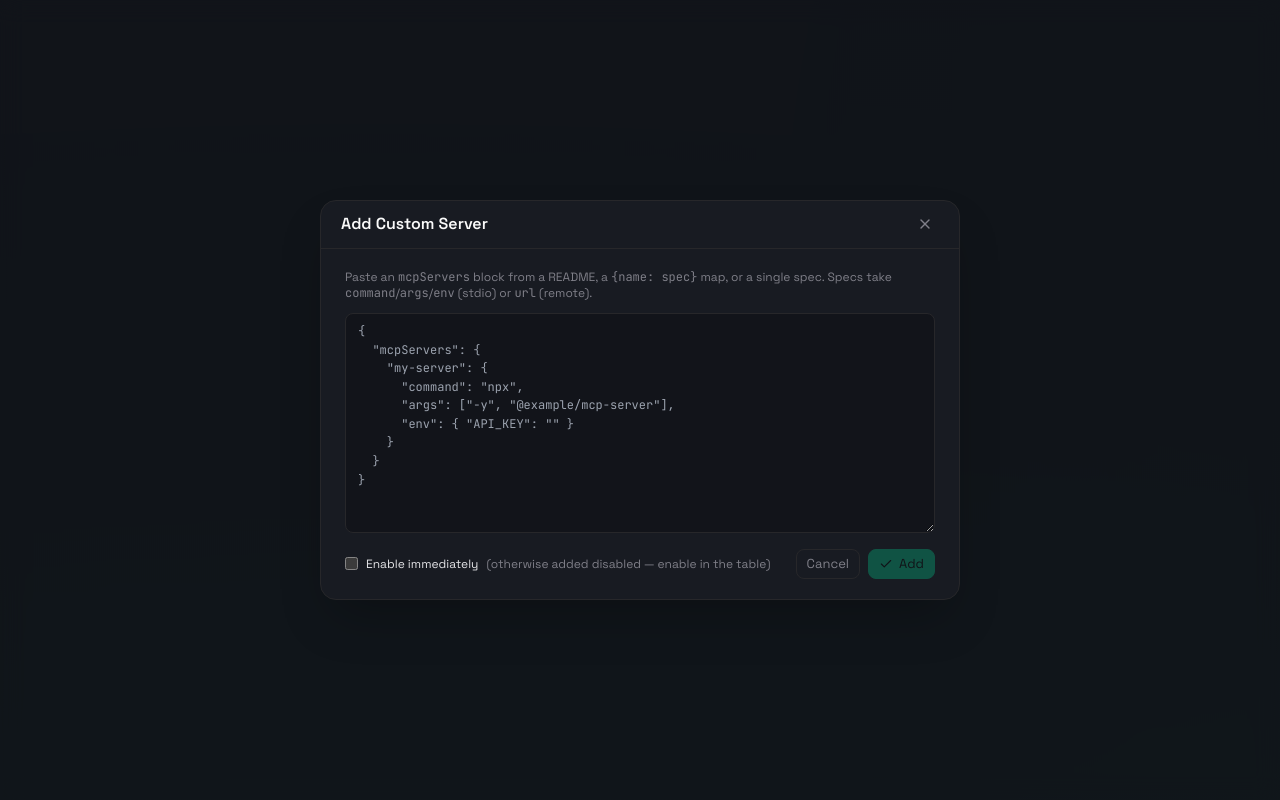
add mode › shows an inline parse error for invalid JSON and disables Add
Step 1. Click the text box named "Servers JSON" → x=640, y=423, box [345, 313, 935, 533]
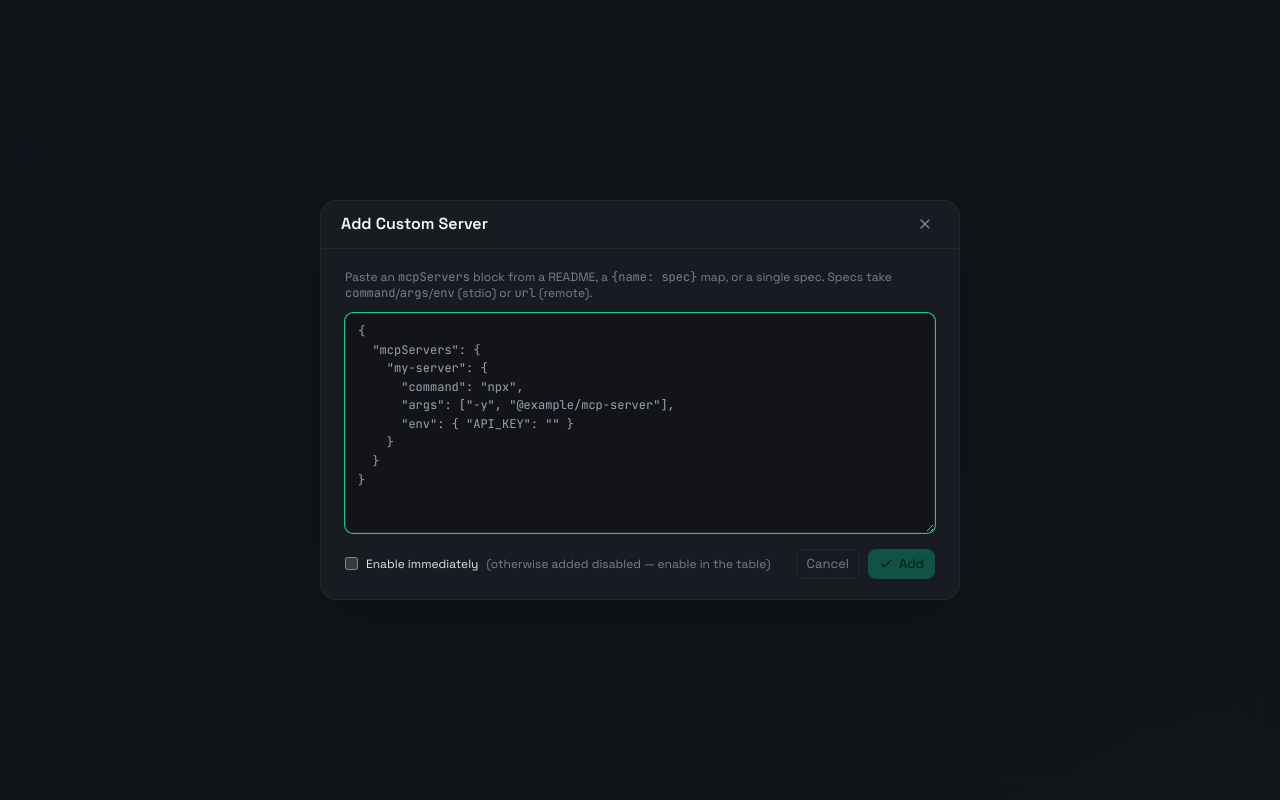
Step 2. Type keys "{\"mcpServers\": nope}"
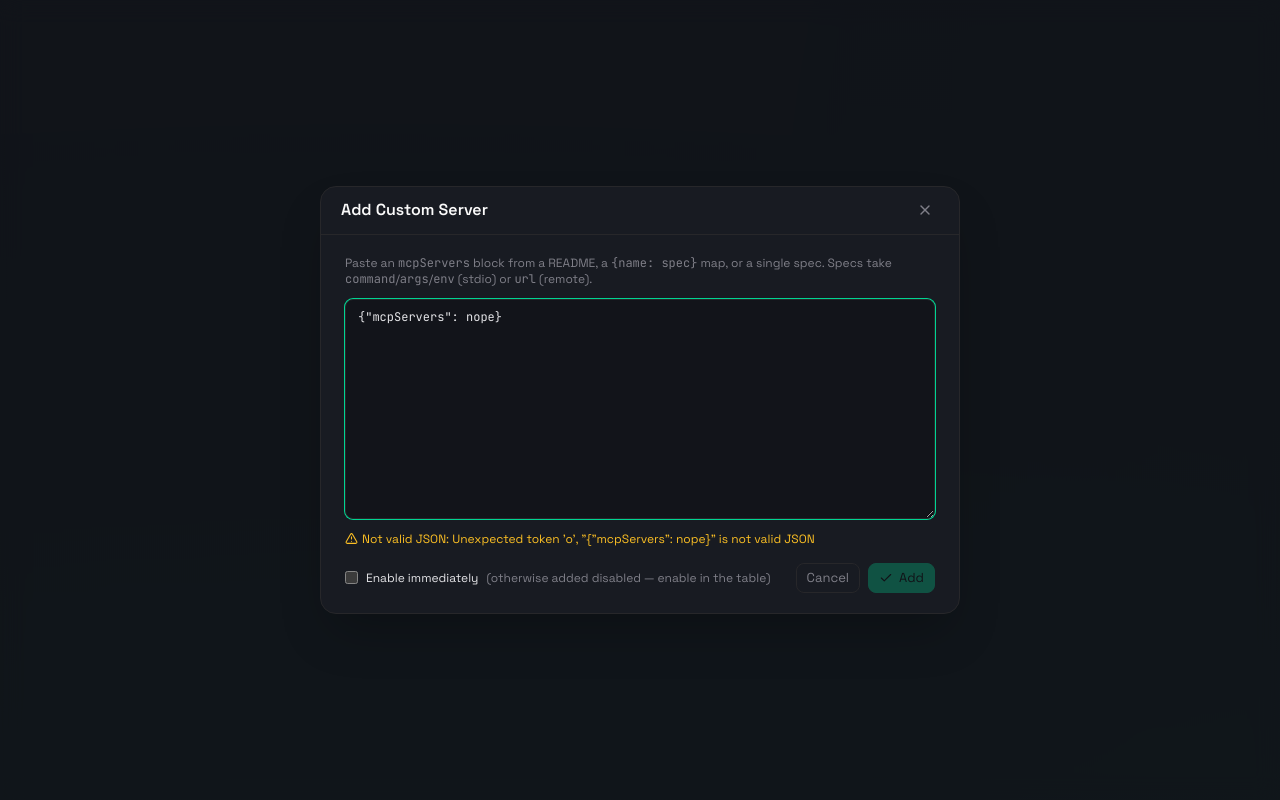
Expected: the button "Add" is disabled, [868, 563, 935, 593]
Expected: the message shows "Not valid JSON", [362, 531, 815, 547]
